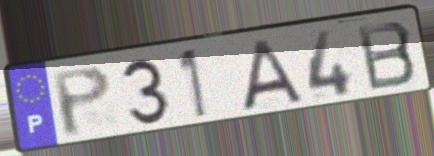1: (175, 45, 211, 122)
3: (120, 55, 174, 132)
4: (303, 27, 359, 101)
A: (241, 37, 306, 114)
B: (353, 18, 420, 94)
P: (48, 63, 115, 140)
